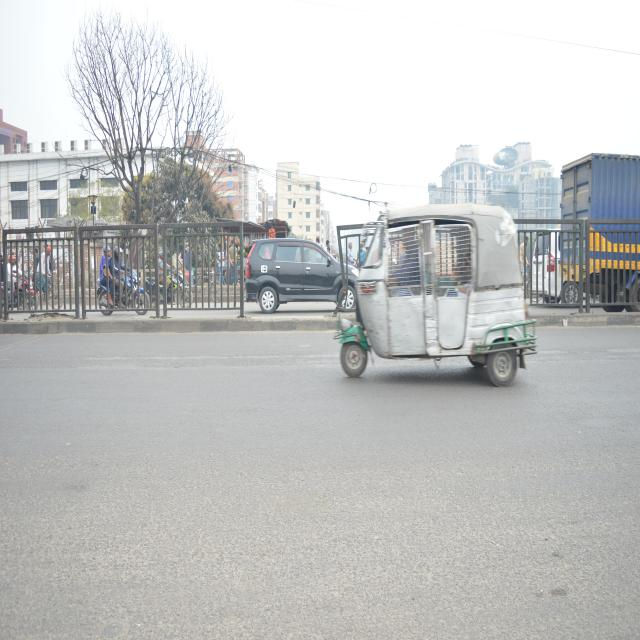microbus: (242, 231, 364, 312)
motorbike: (96, 274, 152, 322), (151, 274, 197, 304), (0, 277, 36, 313)
pickup-van: (558, 147, 640, 310)
